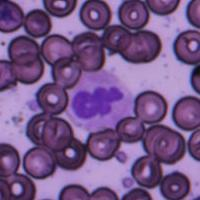N: (66, 69, 134, 131)
